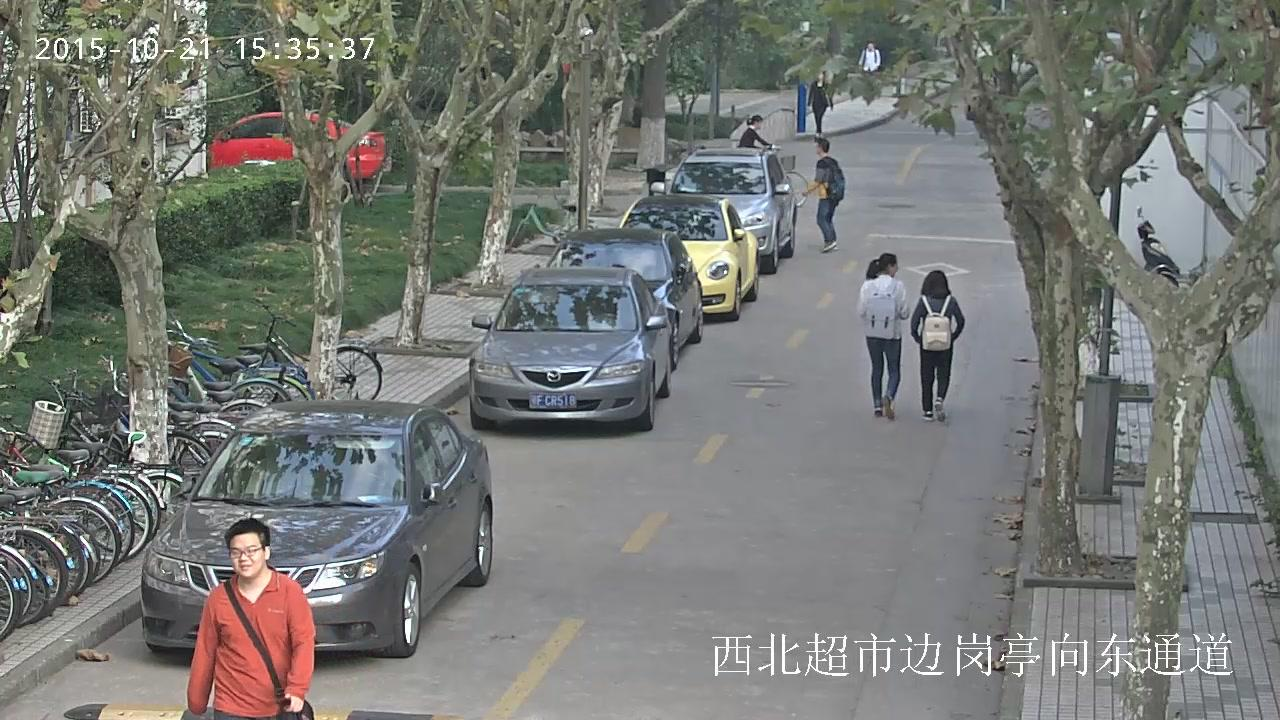person: (186, 517, 317, 720), (856, 251, 909, 421), (910, 270, 963, 423), (739, 115, 801, 208), (801, 137, 845, 253), (738, 115, 778, 166), (807, 70, 834, 136), (858, 41, 881, 71)
